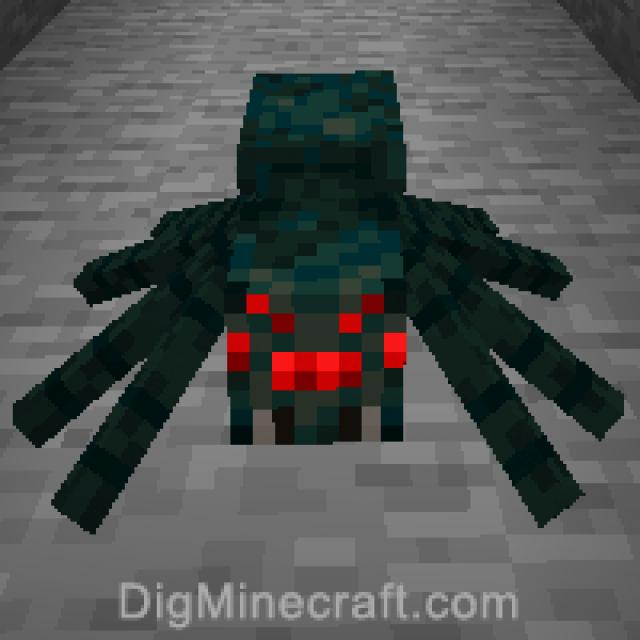Spider: (8, 67, 622, 547)
